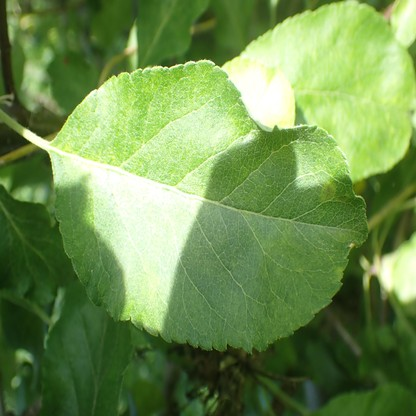scab: (321, 183, 335, 201)
